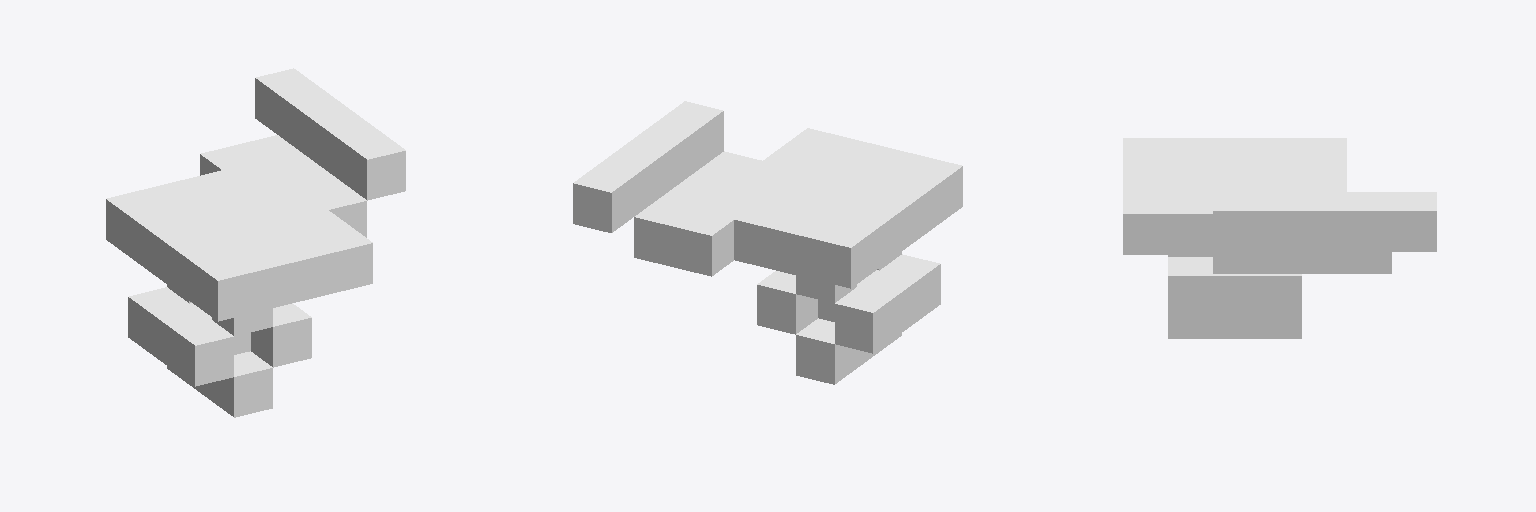
The model's file is Extra-10-GalactixRacer_Wing2_L.obj.
3 views of the same model, side by side, from view 1: azimuth 30°, elevation 25°; view 2: azimuth 150°, elevation 25°; view 3: azimuth 270°, elevation 25° (orthographic).
Parts seen in each view (by area): view 1: GalactixRacer_Wing2_L; view 2: GalactixRacer_Wing2_L; view 3: GalactixRacer_Wing2_L.
Boxes of the visible parts, box(x1,y1,x2,y2) form: GalactixRacer_Wing2_L: box(106, 68, 405, 417); GalactixRacer_Wing2_L: box(573, 101, 962, 384); GalactixRacer_Wing2_L: box(1123, 138, 1436, 338).
Bounding box in the file's own units: 0.6 × 0.5 × 0.7.